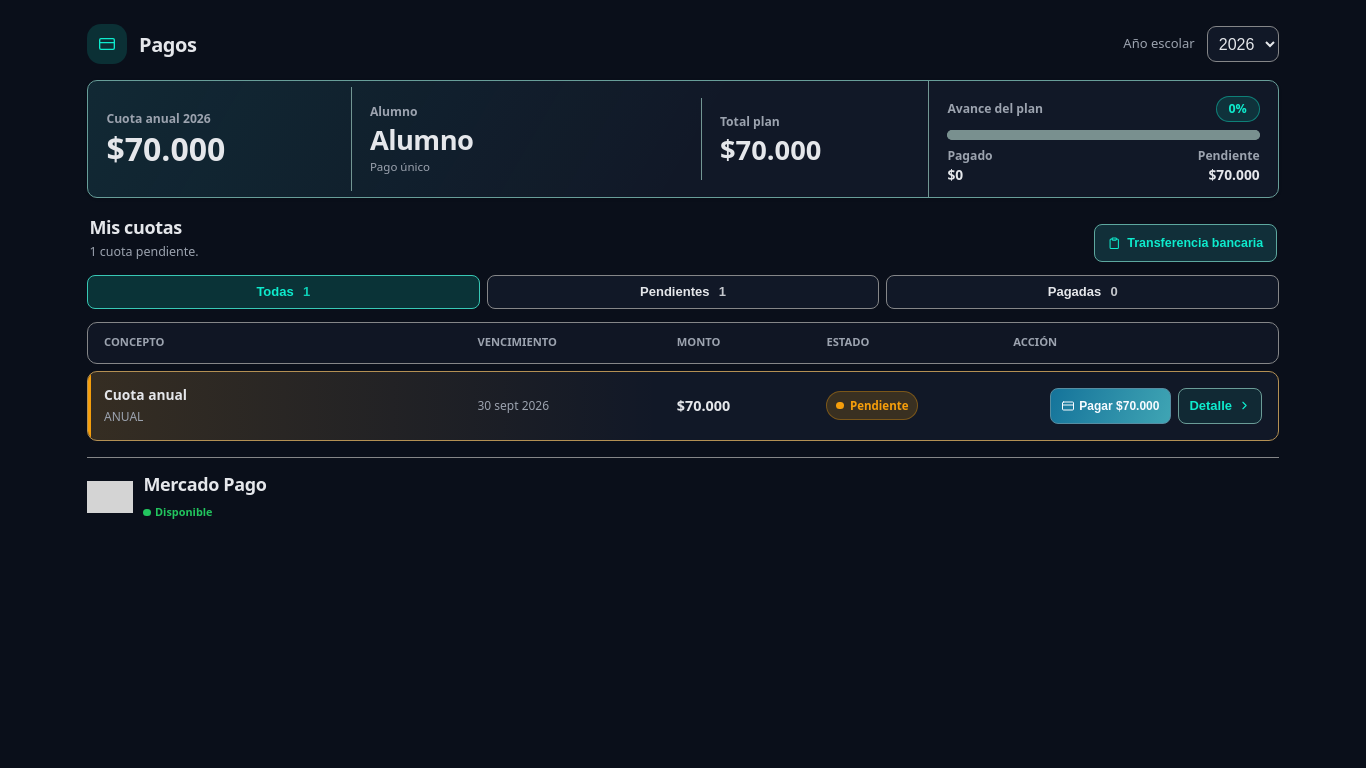
Scenario: PaymentsPage para apoderado › integra el botón anual y el historial en la página existente
The width and height of the screenshot is (1366, 768).
Expected: the text "Historial del pago" is not shown
Step 1. Click the button "Detalle" → point(1220, 406), box [1178,388,1262,424]
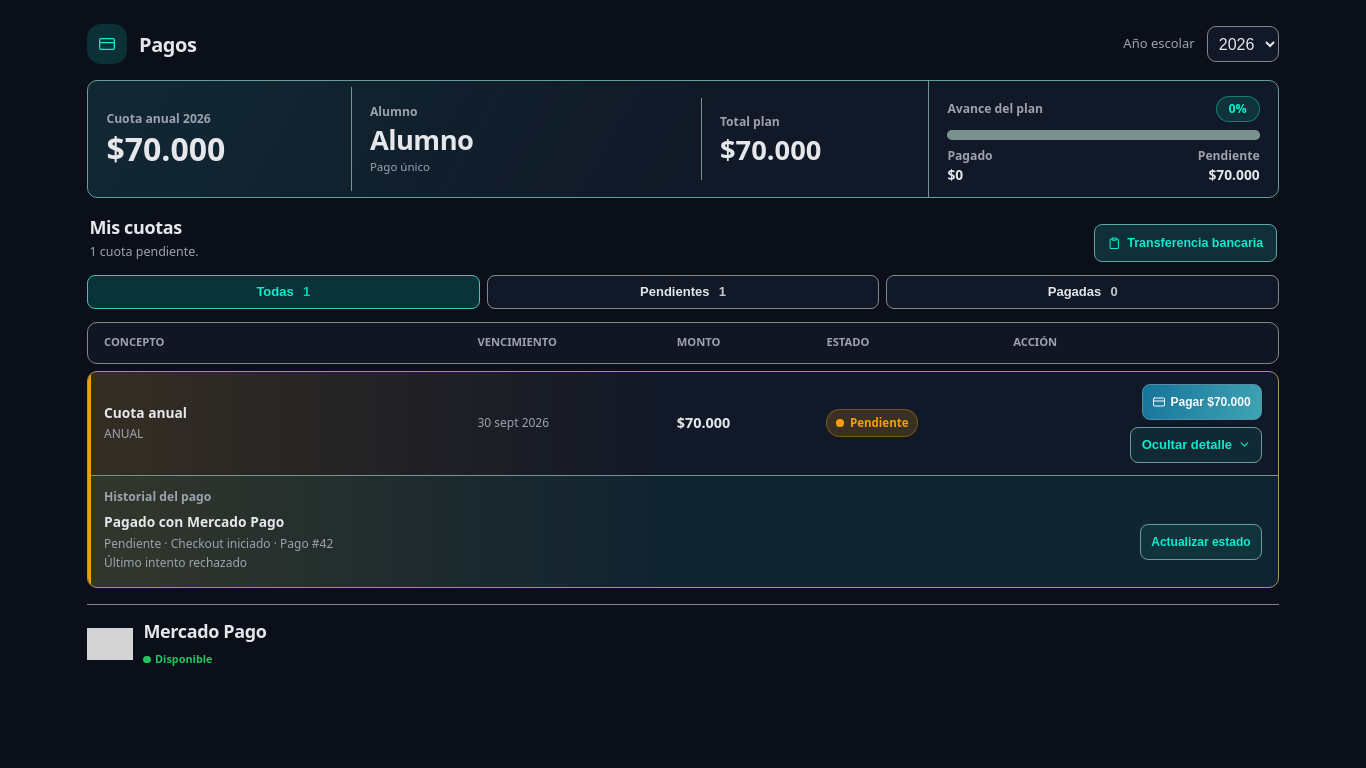
Now the text "Historial del pago" is shown, box [104,488,211,505]
Step 2. Click the button with aria-label "Pagar con Mercado Pago" → point(1202, 402), box [1142,384,1262,420]
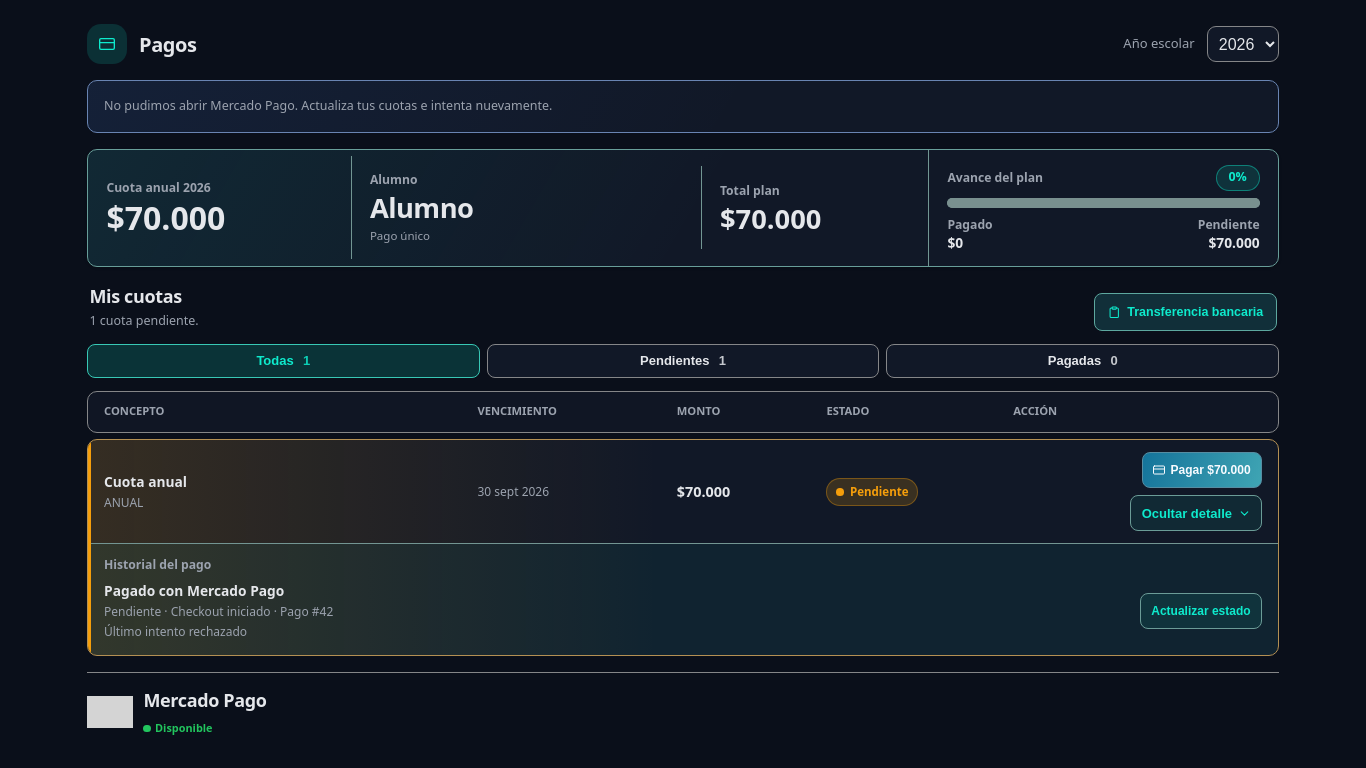
Now the text "No pudimos abrir Mercado Pago" is shown, box [104,97,552,114]
